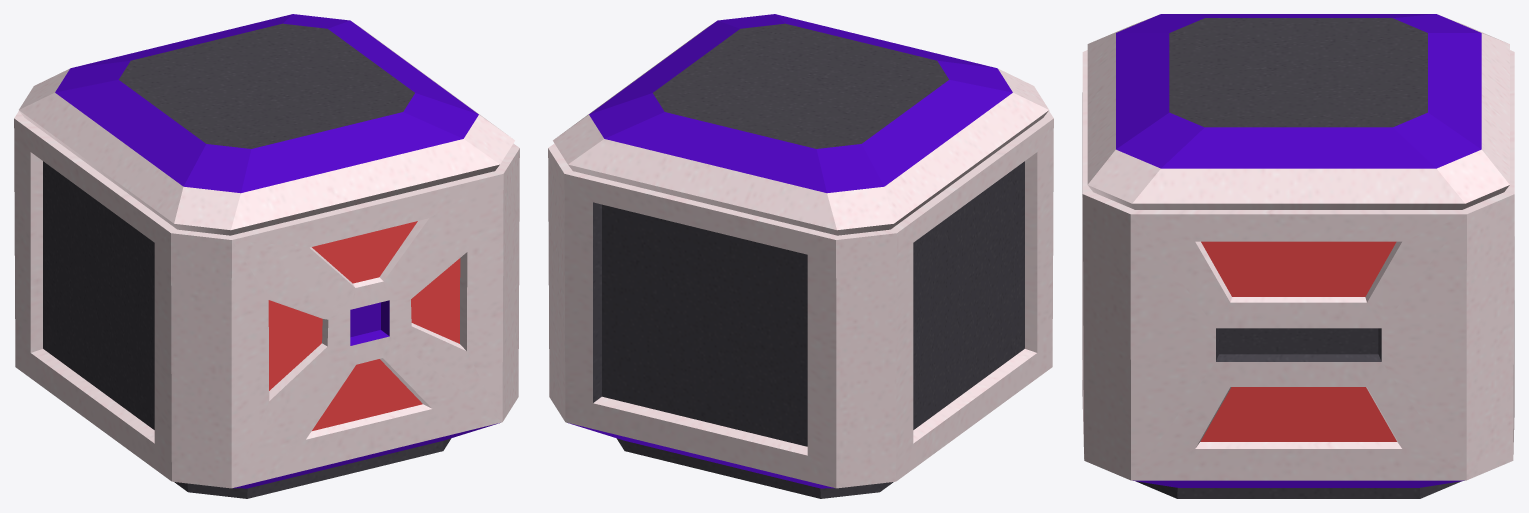
File: CoffreScienceFiction.fbx
3 renders of one model, left to right at view 1: azimuth 30°, elevation 25°; view 2: azimuth 150°, elevation 25°; view 3: azimuth 270°, elevation 25°, orthographic. The views are drawn at different scales.
Visible parts, largest first — view 1: CoffreScienceFiction_Bas, CoffreScienceFiction_Haut; view 2: CoffreScienceFiction_Bas, CoffreScienceFiction_Haut; view 3: CoffreScienceFiction_Bas, CoffreScienceFiction_Haut.
Boxes of the visible parts, box(x1,y1,x2,y2) form: CoffreScienceFiction_Bas: box(14, 111, 519, 498); CoffreScienceFiction_Haut: box(19, 14, 514, 235); CoffreScienceFiction_Bas: box(548, 111, 1053, 498); CoffreScienceFiction_Haut: box(553, 14, 1048, 235); CoffreScienceFiction_Bas: box(1082, 50, 1514, 498); CoffreScienceFiction_Haut: box(1087, 14, 1509, 209).
Size of the model in its own units: 19.05 by 17.28 by 19.06.
